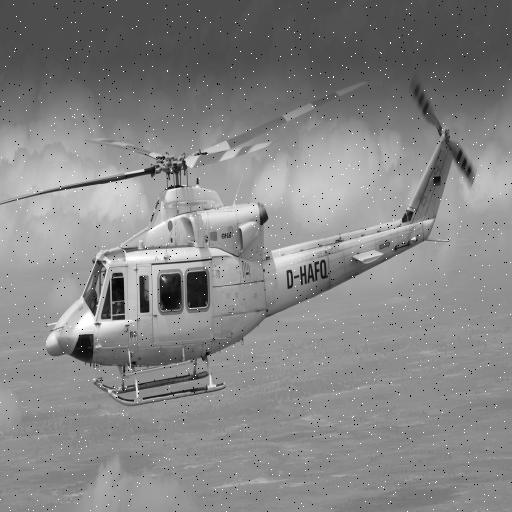helicopter: (1, 58, 482, 416)
